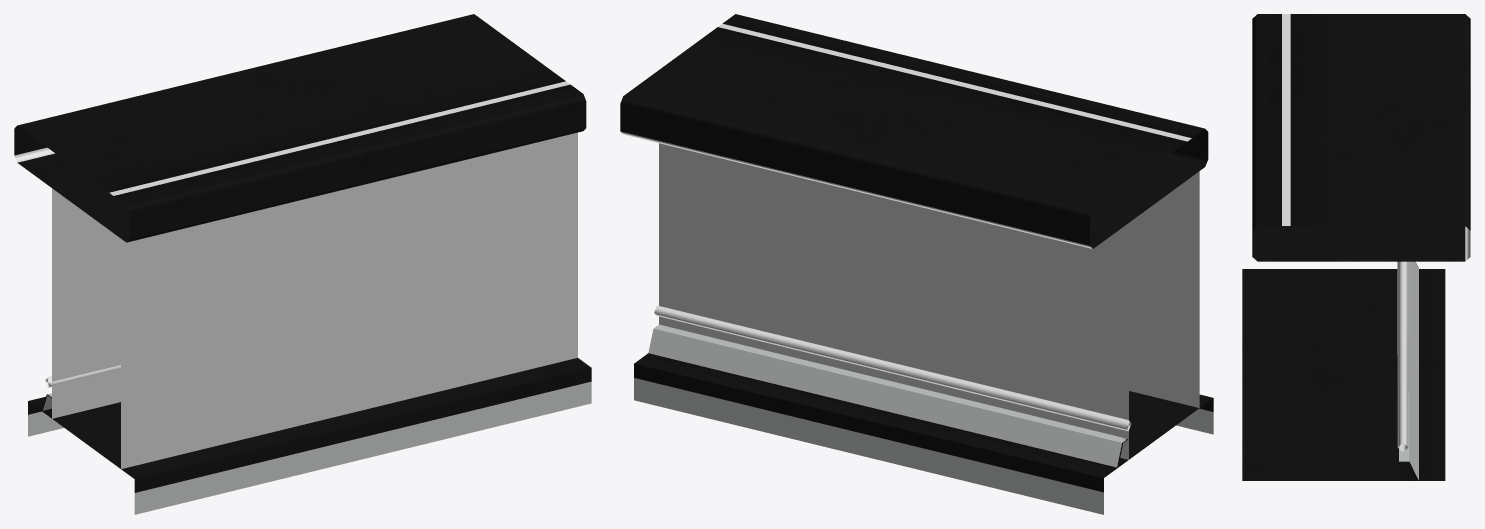
Rendered from Mesh_Bar_2x.fbx.
The picture shows the model from 3 angles, left to right: view 1: azimuth 30°, elevation 25°; view 2: azimuth 150°, elevation 25°; view 3: azimuth 270°, elevation 25°; orthographic projection. The views are drawn at different scales.
Parts seen in each view (by area): view 1: Bar_2x; view 2: Bar_2x; view 3: Bar_2x.
Boxes of the visible parts, <box> form: Bar_2x: <box>14,14,591,514</box>; Bar_2x: <box>620,14,1213,514</box>; Bar_2x: <box>1242,14,1470,480</box>.
Size of the model in its own units: 2.01 by 1.27 by 0.9111.
